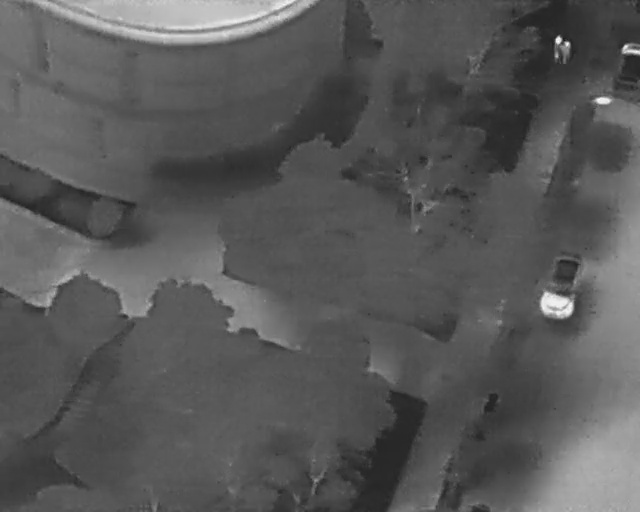Car: (536, 248, 585, 322), (615, 40, 639, 91)
Person: (560, 38, 571, 65), (553, 34, 562, 64)
